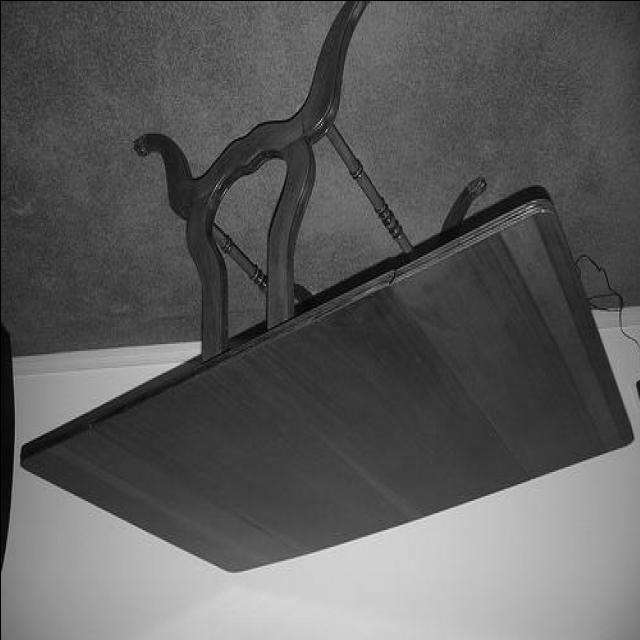table: (18, 2, 634, 575)
